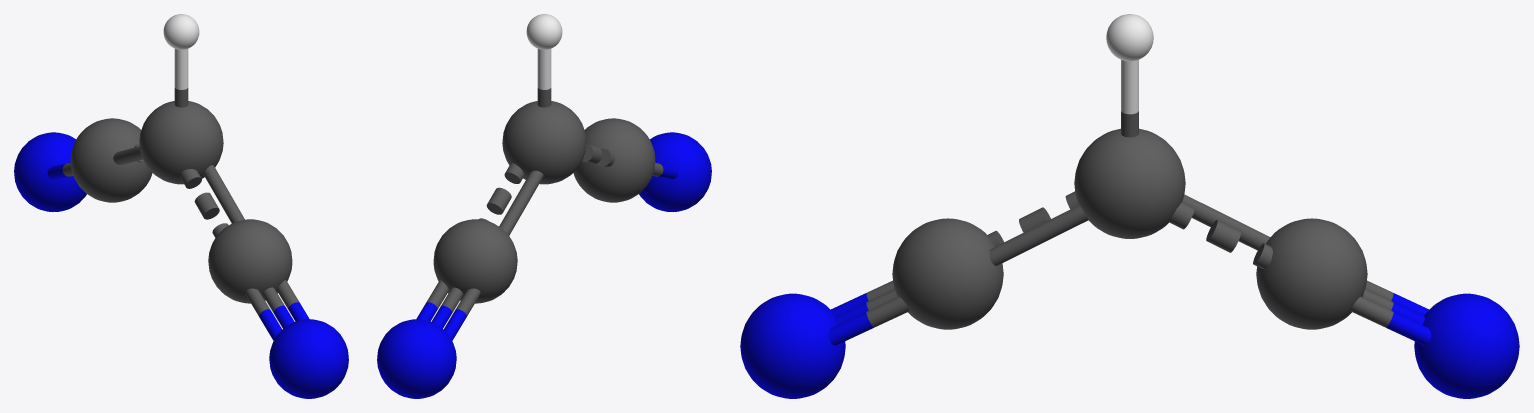
The model's file is dicyanomethanide.fbx.
3 renders of one model, left to right at view 1: azimuth 30°, elevation 25°; view 2: azimuth 150°, elevation 25°; view 3: azimuth 270°, elevation 25°, orthographic. The views are drawn at different scales.
Parts seen in each view (by area): view 1: C05, C01, N06, C03, N04, C05#N06.001, C01-=C05, H02, C01-H02, C01-=C03, C03#N04.001; view 2: C01, C03, N04, C05, N06, C03#N04.001, C01-=C03, H02, C01-H02, C01-=C05, C05#N06.001; view 3: C01, C05, C03, N04, N06, C01-=C03, C01-=C05, C03#N04.001, C05#N06.001, H02, C01-H02.
Boxes of the visible parts, bbox=[...] form: C05: bbox=[208, 219, 292, 303]; C01: bbox=[139, 101, 223, 184]; N06: bbox=[269, 319, 348, 398]; C03: bbox=[70, 118, 152, 202]; N04: bbox=[14, 132, 86, 211]; C05#N06.001: bbox=[245, 280, 309, 340]; C01-=C05: bbox=[180, 165, 244, 237]; H02: bbox=[163, 14, 199, 49]; C01-H02: bbox=[174, 49, 188, 107]; C01-=C03: bbox=[113, 144, 143, 164]; C03#N04.001: bbox=[47, 162, 73, 179]; C01: bbox=[502, 101, 586, 184]; C03: bbox=[433, 219, 517, 303]; N04: bbox=[377, 319, 456, 398]; C05: bbox=[573, 118, 655, 202]; N06: bbox=[639, 132, 711, 211]; C03#N04.001: bbox=[416, 280, 480, 340]; C01-=C03: bbox=[479, 163, 543, 235]; H02: bbox=[526, 14, 562, 49]; C01-H02: bbox=[537, 49, 551, 107]; C01-=C05: bbox=[582, 144, 614, 167]; C05#N06.001: bbox=[652, 162, 678, 179]; C01: bbox=[1074, 128, 1185, 238]; C05: bbox=[892, 218, 1003, 329]; C03: bbox=[1256, 218, 1367, 329]; N04: bbox=[1414, 293, 1519, 398]; N06: bbox=[740, 293, 845, 398]; C01-=C03: bbox=[1169, 194, 1272, 268]; C01-=C05: bbox=[987, 191, 1088, 265]; C03#N04.001: bbox=[1350, 280, 1431, 345]; C05#N06.001: bbox=[828, 280, 909, 345]; H02: bbox=[1106, 14, 1153, 61]; C01-H02: bbox=[1121, 60, 1138, 137].
Bounding box in the file's own units: 75 × 281 × 525.
